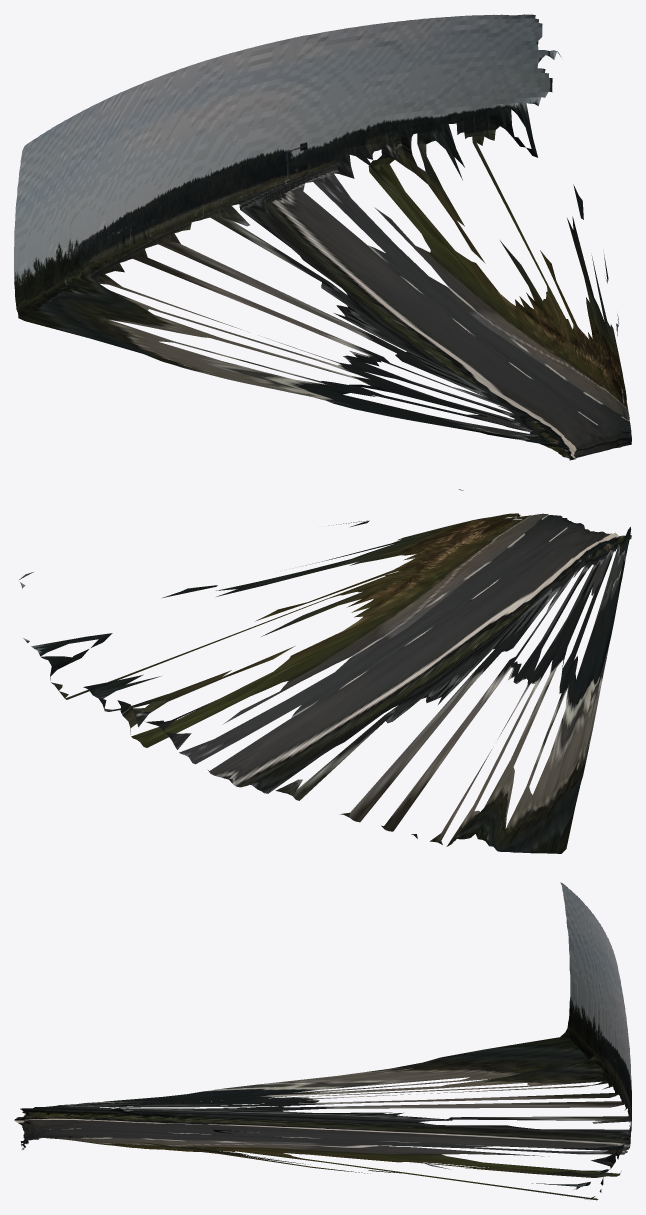
The picture shows the model from 3 angles, top to bottom: view 1: azimuth 30°, elevation 25°; view 2: azimuth 150°, elevation 25°; view 3: azimuth 270°, elevation 25°; orthographic projection. The views are drawn at different scales.
Parts seen in each view (by area): view 1: defaultobject; view 2: defaultobject; view 3: defaultobject.
Part boxes in pixels (x1,y1,x2,y2): defaultobject: (14,14,631,460); defaultobject: (19,489,631,853); defaultobject: (14,882,631,1200).
Bounding box in the file's own units: 40.44 × 13.68 × 44.71.
Materials: 1 (1 with a texture image).
